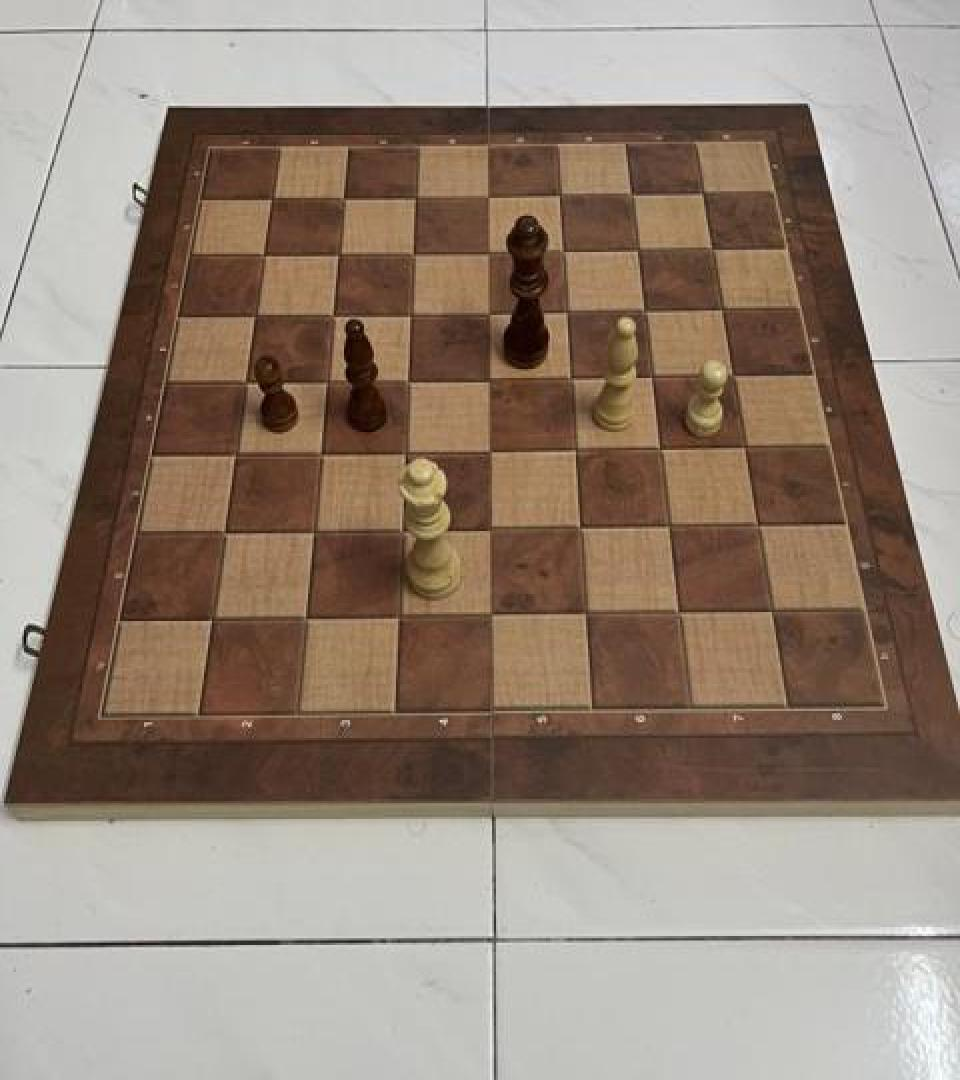xcorner: (688, 179, 720, 215), (617, 179, 649, 215), (546, 180, 578, 216), (474, 180, 506, 216), (402, 180, 434, 216), (331, 180, 363, 216), (258, 181, 290, 217), (698, 234, 730, 270), (624, 234, 656, 270), (549, 235, 581, 271), (475, 235, 507, 271), (400, 236, 432, 272), (325, 236, 357, 272), (250, 236, 282, 272), (708, 294, 740, 330), (630, 295, 662, 331), (553, 295, 585, 331), (476, 296, 508, 332), (398, 296, 430, 332), (320, 297, 352, 333), (242, 297, 274, 333), (718, 359, 750, 395), (638, 360, 670, 396), (557, 360, 589, 396), (476, 361, 508, 397), (395, 361, 427, 397), (314, 362, 346, 398), (232, 362, 264, 398), (730, 430, 762, 466), (646, 431, 678, 467), (562, 431, 594, 467), (477, 432, 509, 468), (392, 433, 424, 469), (307, 433, 339, 469), (222, 434, 254, 470), (743, 508, 775, 544), (655, 508, 687, 544), (567, 510, 599, 546), (478, 511, 510, 547), (389, 511, 421, 547), (300, 512, 332, 548), (211, 513, 243, 549), (757, 593, 789, 629), (665, 594, 697, 630), (572, 595, 604, 631), (479, 596, 511, 632), (386, 598, 418, 634), (292, 598, 324, 634), (198, 600, 230, 636)
